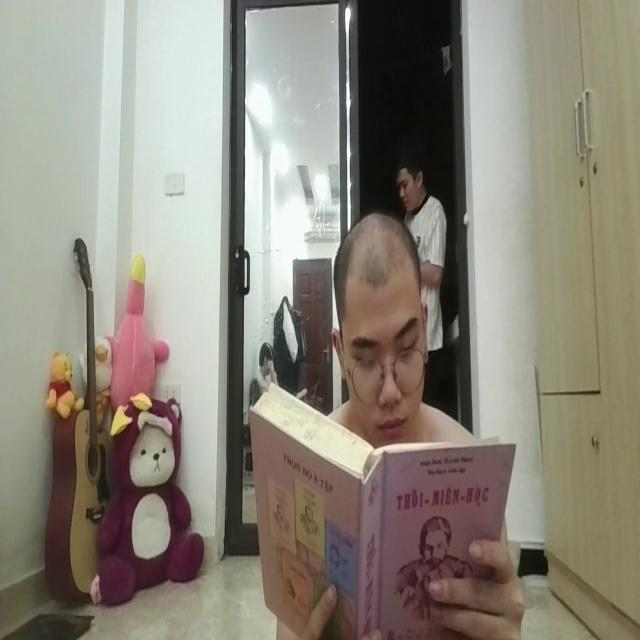book: (241, 369, 515, 640)
extra_person: (396, 144, 448, 334)
student: (332, 218, 426, 447)
